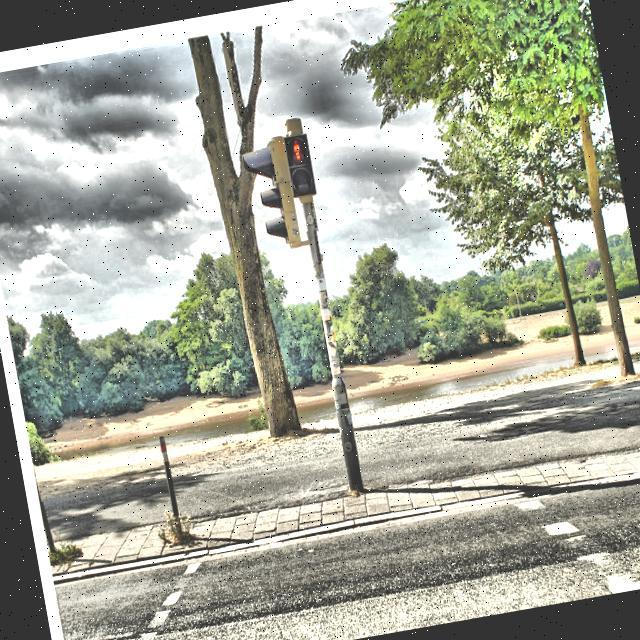red_light: (290, 138, 302, 163)
